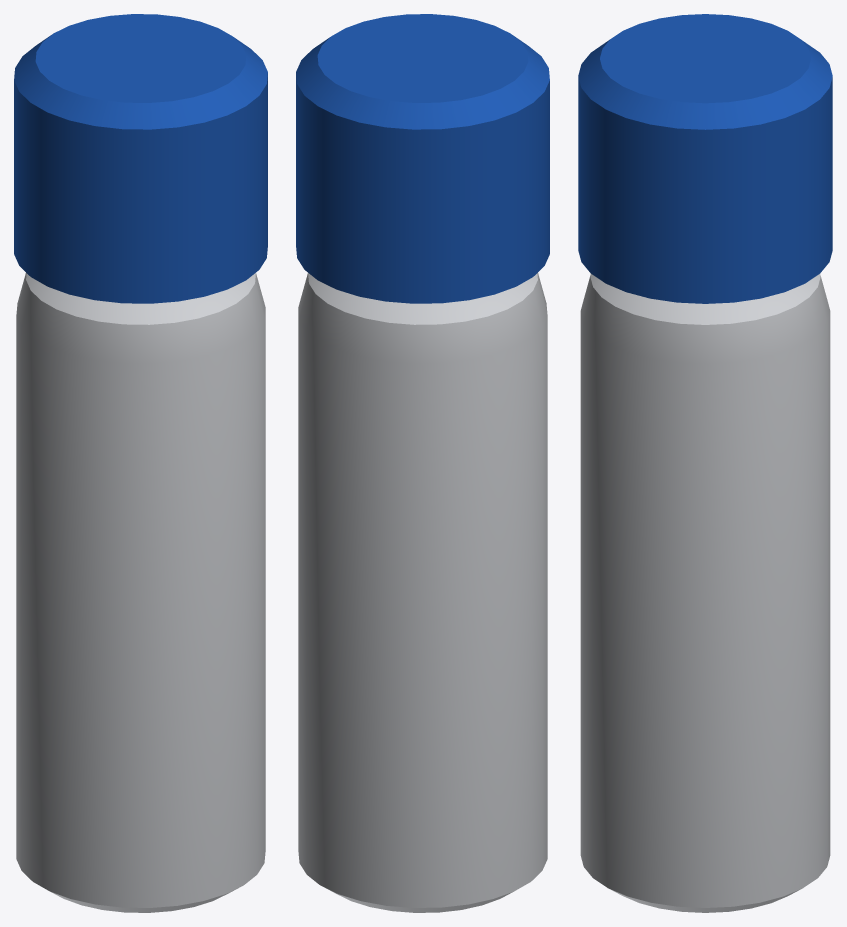
Rendered from desodorante_aerosol.dae.
3 views of the same model, side by side, from view 1: azimuth 30°, elevation 25°; view 2: azimuth 150°, elevation 25°; view 3: azimuth 270°, elevation 25° (orthographic).
Parts seen in each view (by area): view 1: Desodorante aerosol (×2); view 2: Desodorante aerosol (×2); view 3: Desodorante aerosol (×2).
Boxes of the visible parts, left/top/right/bottom form: Desodorante aerosol (×2): left=14, top=14, right=267, bottom=912; Desodorante aerosol (×2): left=296, top=14, right=549, bottom=912; Desodorante aerosol (×2): left=578, top=14, right=832, bottom=912.
Size of the model in its own units: 53 by 53 by 186.
